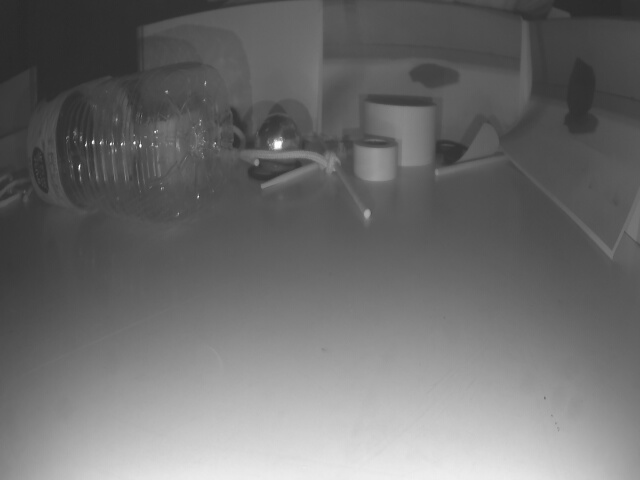Live: (256, 115, 301, 169)
